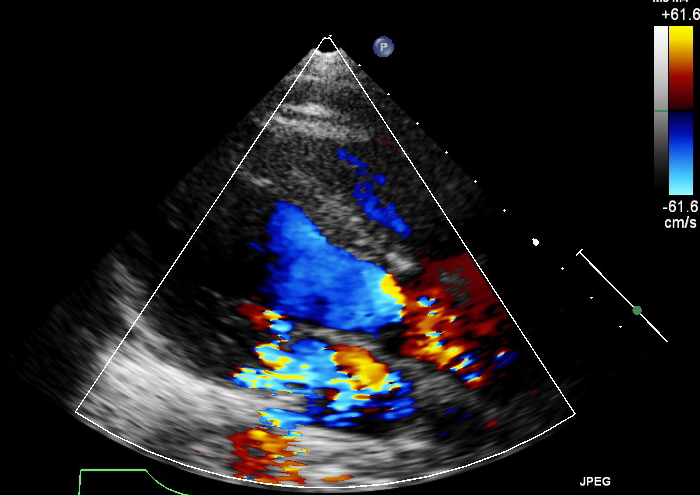AR: (381, 272, 431, 358)
